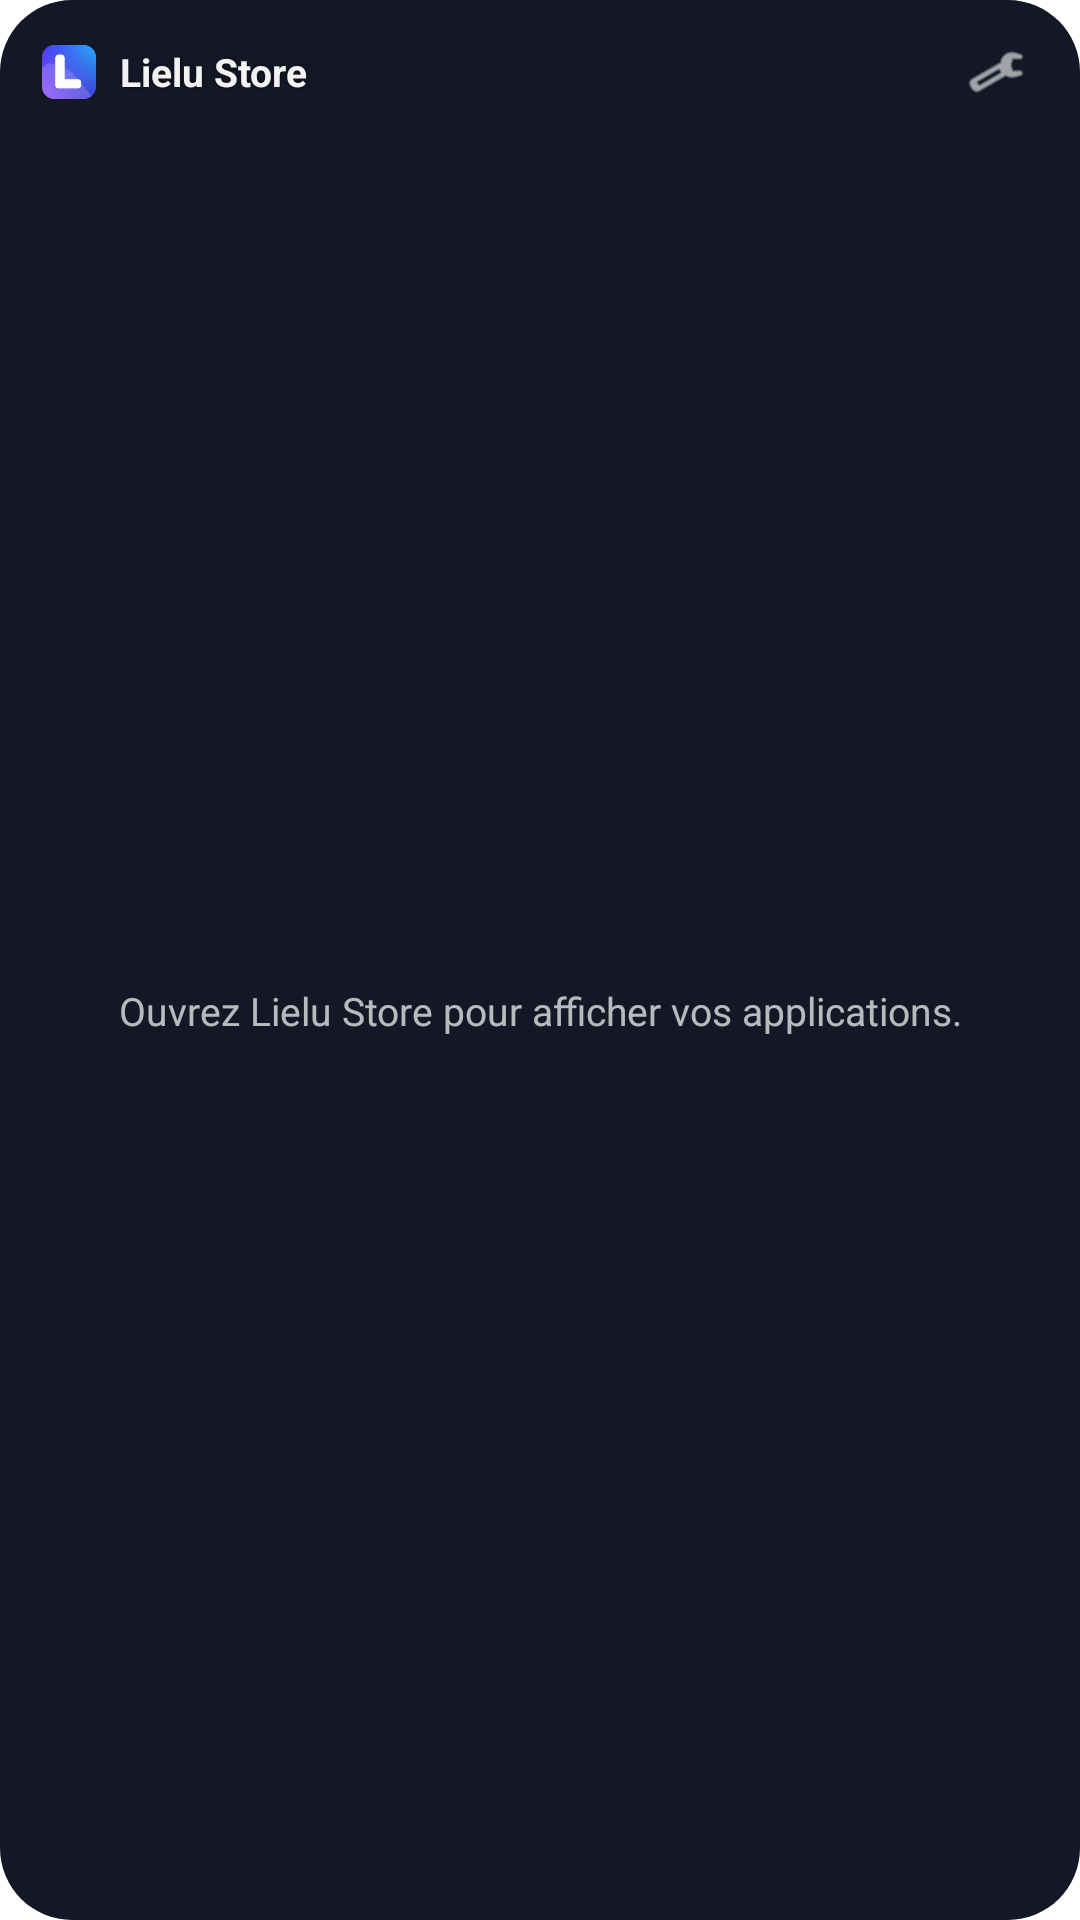

Icons on this 1080w x 1920h Android screen, each with its box as {"x1": x1, "y1": y1, "x2": x2, "y2": y2}:
Régler le widget (ordre et taille des icônes): {"x1": 969, "y1": 51, "x2": 1023, "y2": 93}
